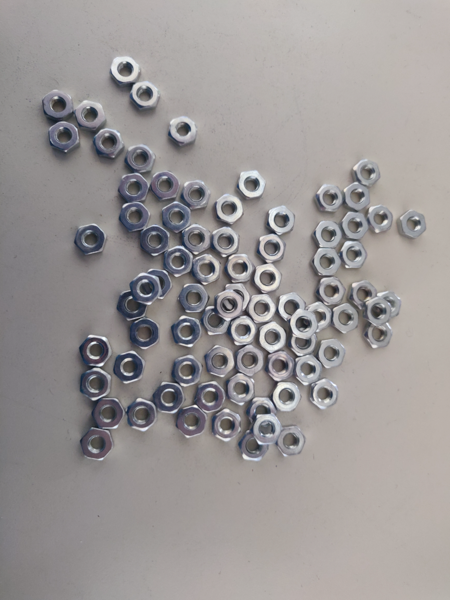nut: (114, 350, 148, 384), (162, 199, 195, 233), (80, 429, 115, 461), (154, 382, 187, 414), (138, 225, 171, 257), (74, 224, 108, 255), (93, 397, 125, 429), (203, 346, 235, 378), (79, 335, 112, 366), (196, 380, 227, 413), (237, 430, 270, 461), (130, 272, 161, 305), (81, 367, 111, 401), (176, 406, 207, 438), (129, 318, 161, 349), (172, 316, 203, 348), (182, 222, 212, 255), (111, 55, 141, 88), (49, 119, 78, 153), (117, 290, 148, 321), (119, 173, 150, 204), (178, 283, 210, 313), (42, 88, 72, 120), (94, 127, 124, 159), (213, 409, 242, 442), (125, 144, 158, 173), (173, 355, 203, 386), (119, 201, 150, 231), (163, 246, 194, 276), (130, 80, 161, 110), (248, 293, 278, 324), (252, 413, 281, 445), (128, 399, 156, 432), (168, 116, 198, 146), (200, 306, 230, 336), (257, 233, 287, 263), (309, 379, 339, 409), (253, 263, 282, 294), (150, 170, 179, 201), (234, 345, 263, 376), (266, 350, 295, 381), (228, 374, 256, 406), (318, 337, 346, 369), (237, 171, 266, 201), (226, 253, 255, 283), (289, 310, 318, 340), (215, 194, 243, 225), (332, 302, 359, 334), (279, 293, 305, 326), (353, 159, 382, 188), (273, 383, 302, 412), (318, 276, 347, 305), (267, 206, 295, 236), (399, 210, 427, 240), (78, 100, 105, 131), (194, 253, 221, 284), (260, 322, 287, 353), (231, 316, 258, 346), (279, 425, 305, 456), (216, 290, 242, 321), (364, 321, 392, 349), (365, 298, 393, 326), (183, 180, 210, 209), (213, 228, 240, 257), (316, 184, 343, 213), (314, 221, 342, 248), (374, 290, 401, 318), (312, 249, 341, 275), (352, 281, 378, 310), (297, 355, 322, 385), (342, 242, 369, 269), (369, 206, 395, 234), (309, 302, 332, 333), (342, 212, 368, 239), (345, 183, 371, 210), (147, 270, 172, 298), (224, 284, 251, 309), (249, 399, 279, 420), (291, 331, 317, 354)
